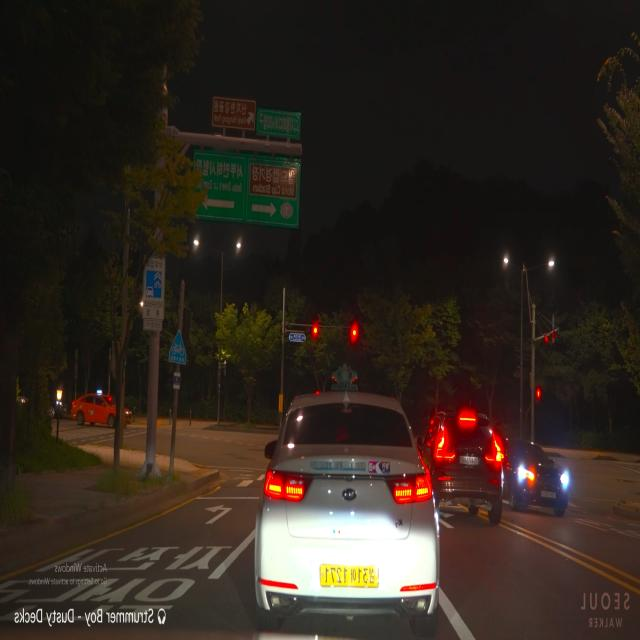headlights: (512, 459, 576, 496)
